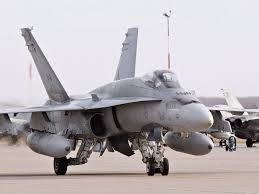fighter: (1, 24, 220, 175)
